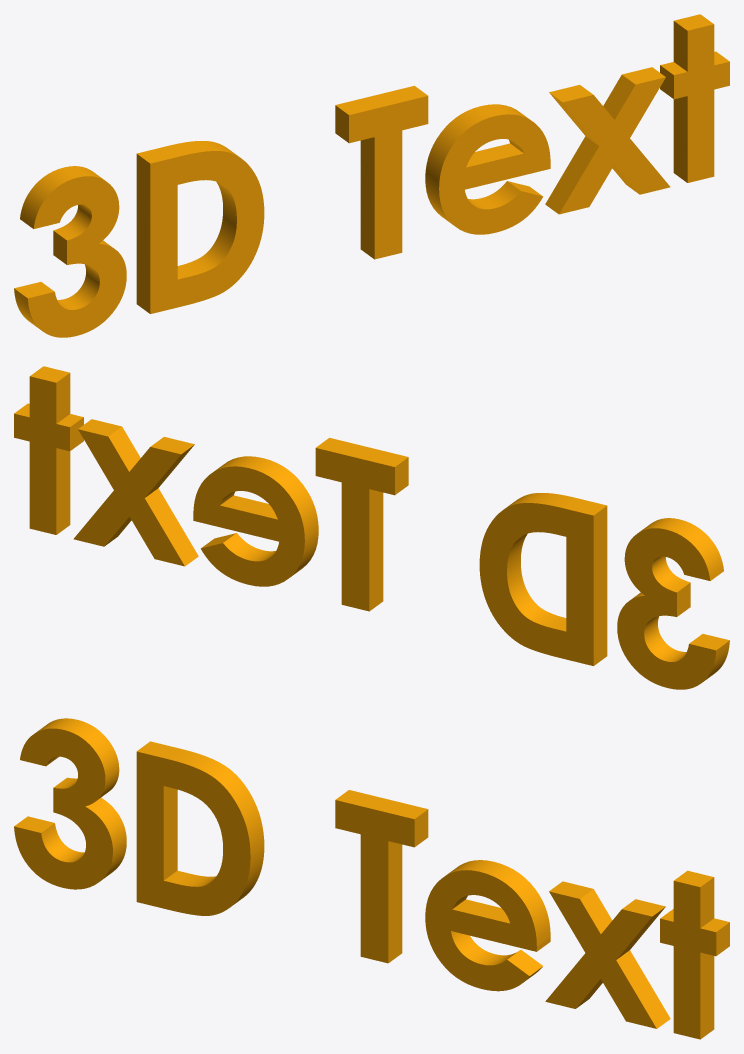
Rendered from 3dtext.obj.
The picture shows the model from 3 angles, top to bottom: view 1: azimuth 30°, elevation 25°; view 2: azimuth 150°, elevation 25°; view 3: azimuth 330°, elevation 25°; orthographic projection.
Parts seen in each view (by area): view 1: Text001; view 2: Text001; view 3: Text001.
Boxes of the visible parts, bbox=[...] form: Text001: bbox=[14, 14, 729, 337]; Text001: bbox=[14, 366, 729, 689]; Text001: bbox=[14, 718, 729, 1039].
Bounding box in the file's own units: 86.66 × 18.66 × 2.95.
